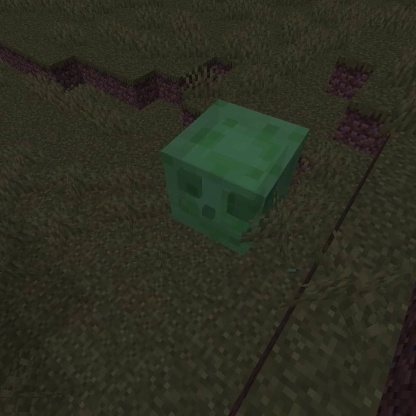slime: (157, 95, 313, 259)
